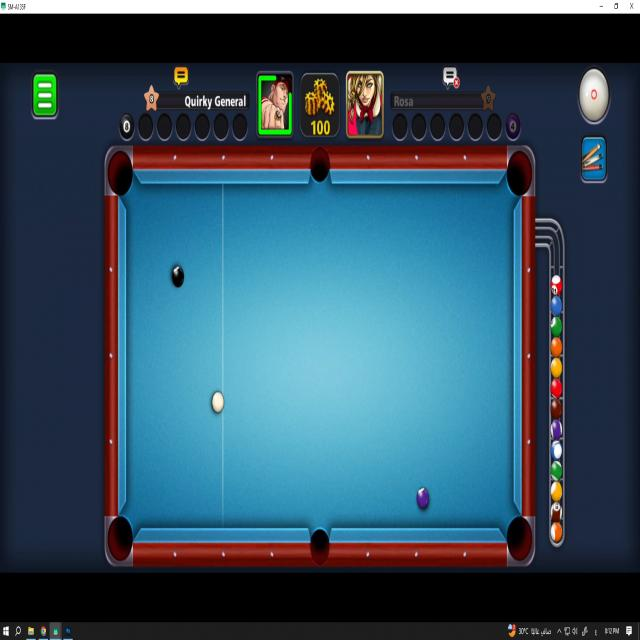object_ball: (172, 266, 184, 287), (417, 488, 428, 509)
white_cue_ball: (212, 392, 223, 413)
